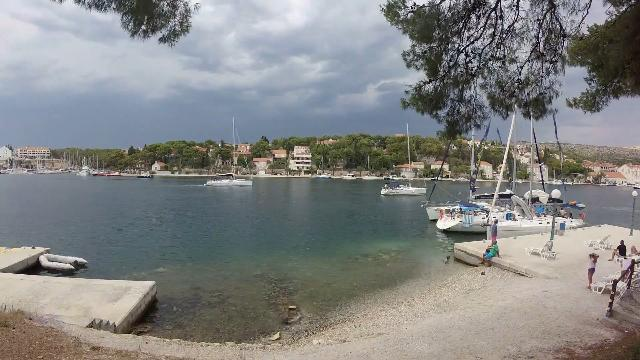Sailboat: (376, 178, 434, 202), (201, 169, 259, 189)
speedboat: (136, 168, 158, 184)
